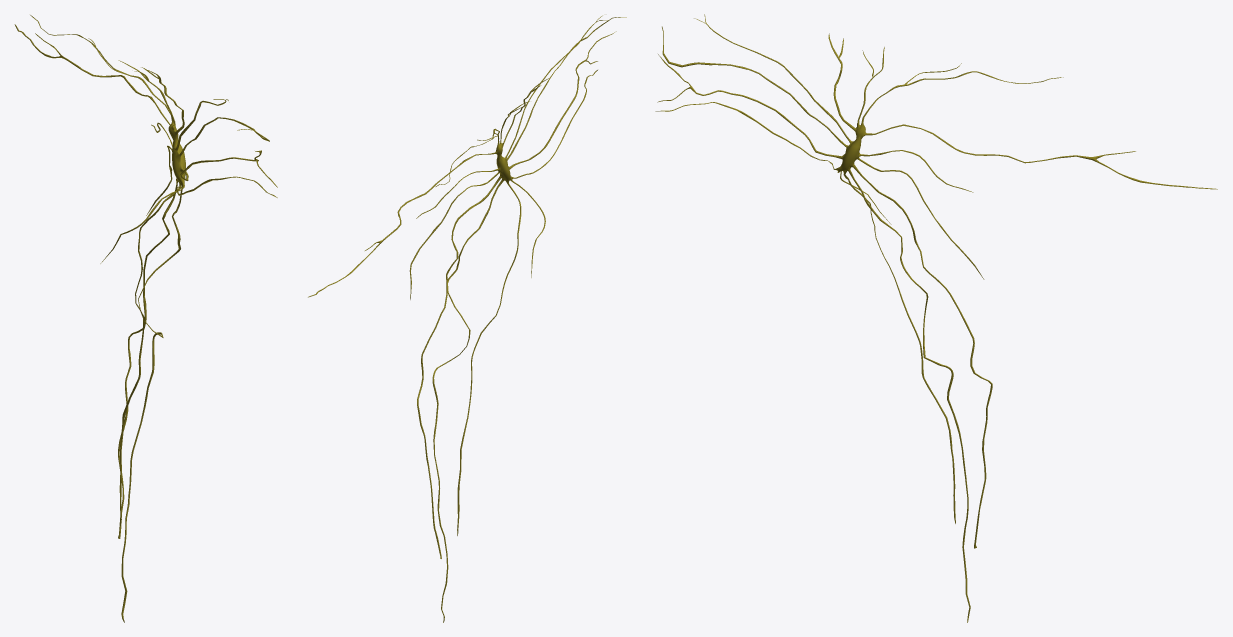
Rendered from L lymphocentrum cervicale superficiale.fbx.
3 renders of one model, left to right at view 1: azimuth 30°, elevation 25°; view 2: azimuth 150°, elevation 25°; view 3: azimuth 270°, elevation 25°, orthographic. The views are drawn at different scales.
Visible parts, largest first — view 1: L lymphocentrum cervicale superficiale, L lymphocentrum cervicale superficiale low; view 2: L lymphocentrum cervicale superficiale, L lymphocentrum cervicale superficiale low; view 3: L lymphocentrum cervicale superficiale, L lymphocentrum cervicale superficiale low.
Boxes of the visible parts, <box> form: L lymphocentrum cervicale superficiale: <box>15,15,277,622</box>; L lymphocentrum cervicale superficiale low: <box>15,25,275,613</box>; L lymphocentrum cervicale superficiale: <box>308,15,626,622</box>; L lymphocentrum cervicale superficiale low: <box>309,17,611,617</box>; L lymphocentrum cervicale superficiale: <box>655,14,1217,622</box>; L lymphocentrum cervicale superficiale low: <box>663,31,1215,620</box>.
Bounding box in the file's own units: 14.63 × 83.68 × 73.16.
